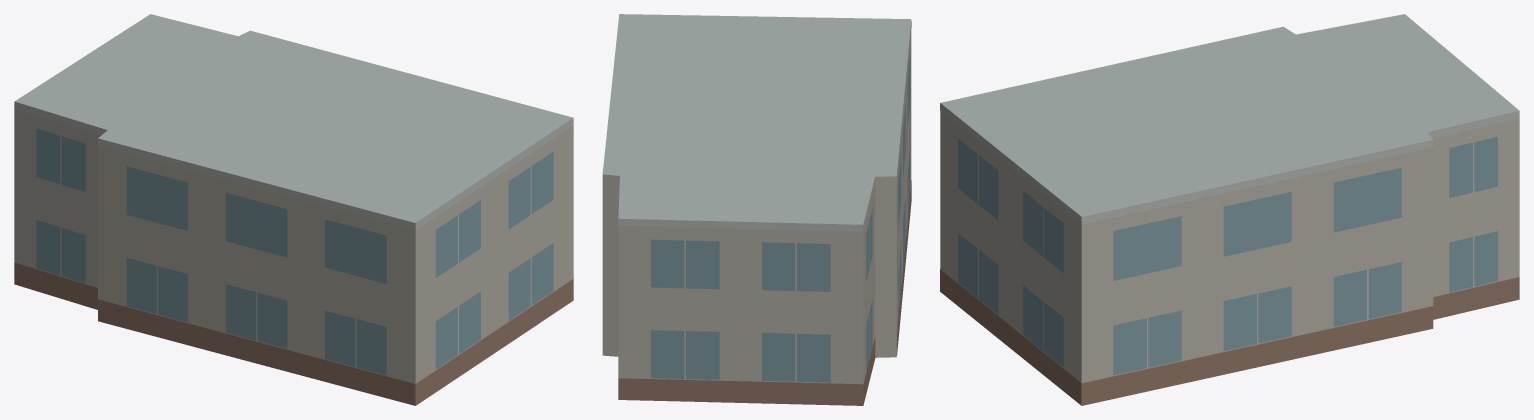
File: survey-upis-32922434.glb
3 views of the same model, side by side, from view 1: azimuth 30°, elevation 25°; view 2: azimuth 150°, elevation 25°; view 3: azimuth 270°, elevation 25° (orthographic). The views are drawn at different scales.
Parts seen in each view (by area): view 1: survey-upis-32922434.tmp; view 2: survey-upis-32922434.tmp; view 3: survey-upis-32922434.tmp.
Part boxes in pixels (x1=…): survey-upis-32922434.tmp: x1=14, y1=14, x2=573, y2=405; survey-upis-32922434.tmp: x1=602, y1=14, x2=911, y2=405; survey-upis-32922434.tmp: x1=940, y1=14, x2=1519, y2=405.
Bounding box in the file's own units: 14.07 × 6.1 × 16.97.
